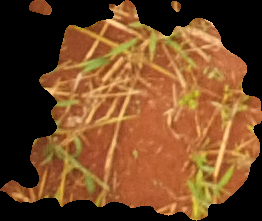soil: (1, 1, 261, 221)
